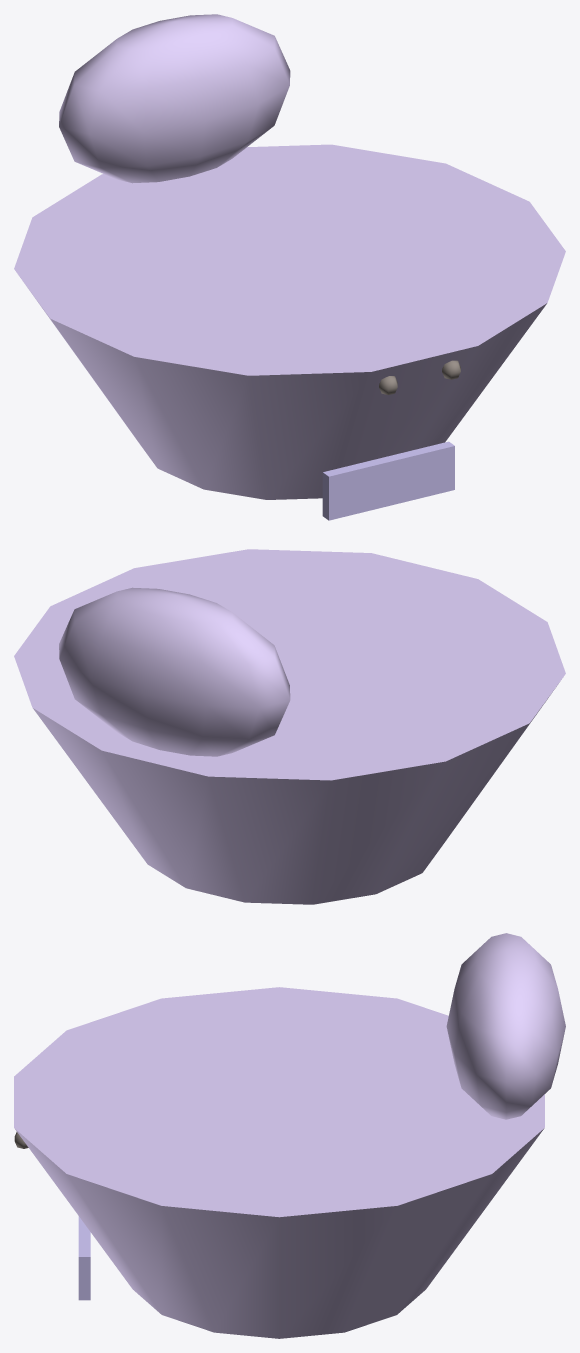
File: outfit_hoodie.glb
3 views of the same model, one above another, from view 1: azimuth 30°, elevation 25°; view 2: azimuth 150°, elevation 25°; view 3: azimuth 270°, elevation 25° (orthographic).
Visible parts, largest first — view 1: outfit_hoodie; view 2: outfit_hoodie; view 3: outfit_hoodie.
Part boxes in pixels (box(x1,y1,x2,y2)): outfit_hoodie: box(14, 14, 565, 520); outfit_hoodie: box(14, 549, 565, 904); outfit_hoodie: box(14, 933, 565, 1338).
Size of the model in its own units: 45.6 by 30 by 46.23.
